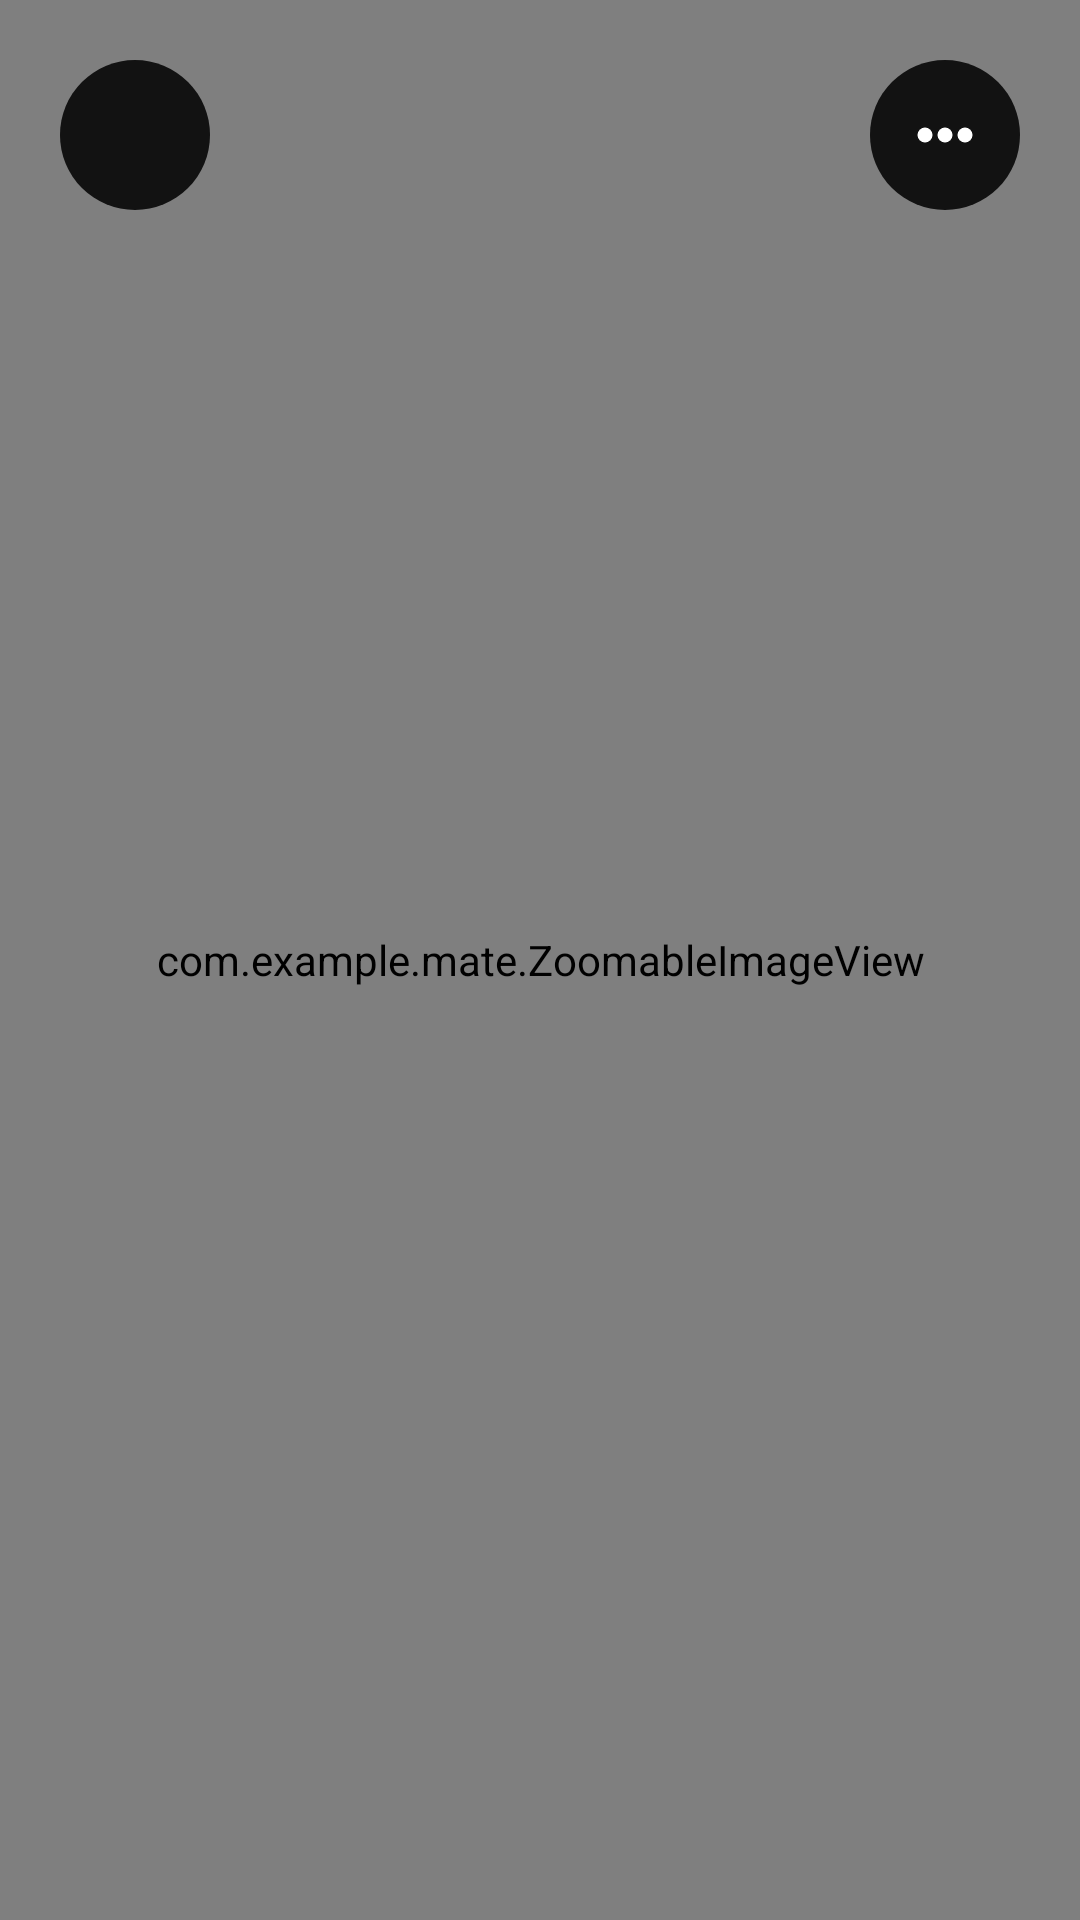

Named icons in this screenshot (1080px x 1920px) and their bounding boxes, (x1, y1, x2, y2):
system three dot: (870, 60, 1020, 210)
